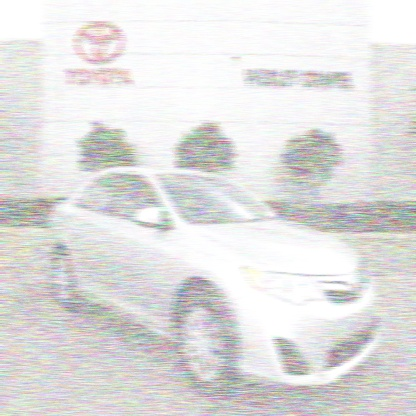Vehicle: (45, 167, 381, 394)
